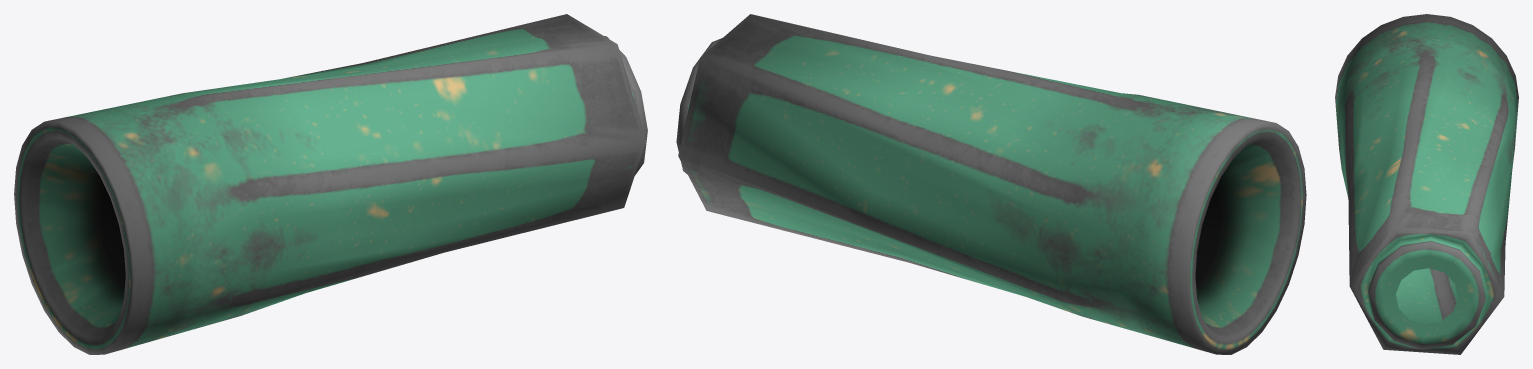
Rendered from Fire_Mouth_2.fbx.
3 renders of one model, left to right at view 1: azimuth 30°, elevation 25°; view 2: azimuth 150°, elevation 25°; view 3: azimuth 270°, elevation 25°, orthographic. The views are drawn at different scales.
Parts seen in each view (by area): view 1: Fire_Mouth_2; view 2: Fire_Mouth_2; view 3: Fire_Mouth_2.
Boxes of the visible parts, x1=… form: Fire_Mouth_2: x1=14, y1=14, x2=647, y2=354; Fire_Mouth_2: x1=676, y1=14, x2=1306, y2=354; Fire_Mouth_2: x1=1335, y1=14, x2=1518, y2=354.
Size of the model in its own units: 0.1058 by 0.0413 by 0.0412.
